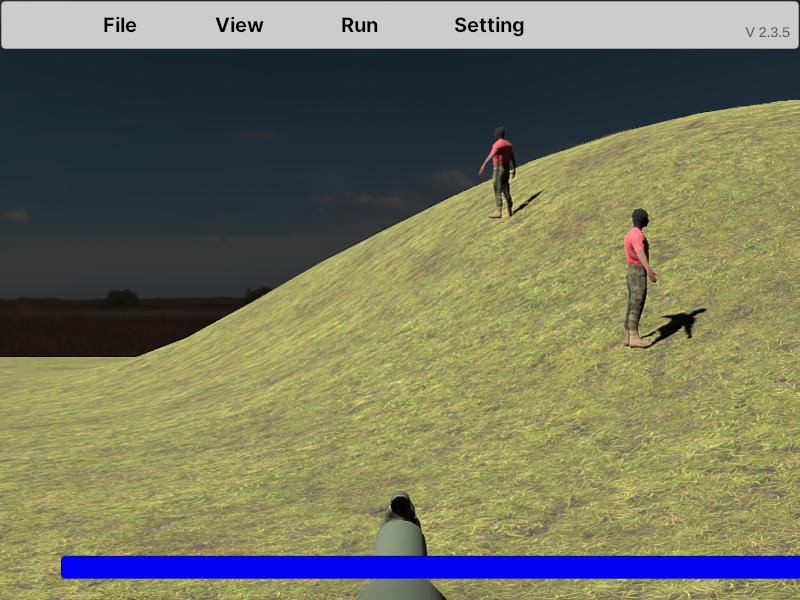Human: (624, 207, 657, 347), (479, 126, 516, 220)
